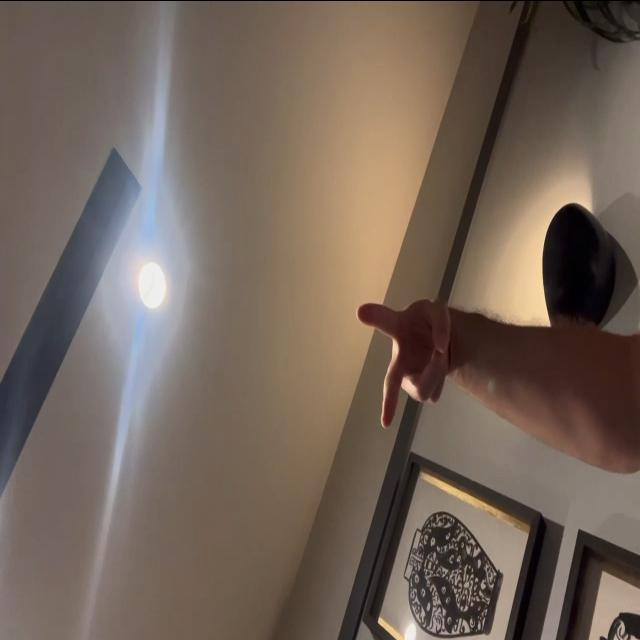Scissors: (353, 292, 457, 430)
